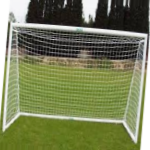goals: (2, 20, 147, 143)
